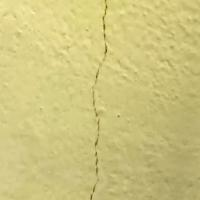crack: (63, 1, 120, 198)
